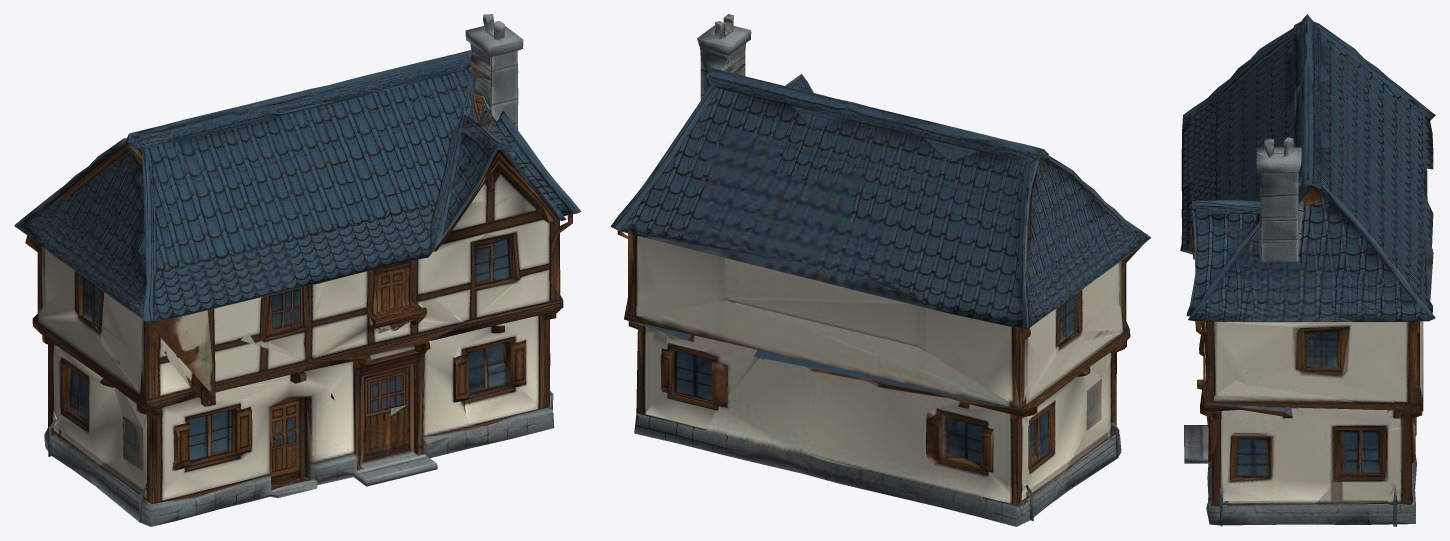
File: ninja_houseADusk.glb
3 renders of one model, left to right at view 1: azimuth 30°, elevation 25°; view 2: azimuth 150°, elevation 25°; view 3: azimuth 270°, elevation 25°, orthographic. The views are drawn at different scales.
Bounding box in the file's own units: 2 × 1.68 × 1.04.
Materials: 1 (1 with a texture image).
